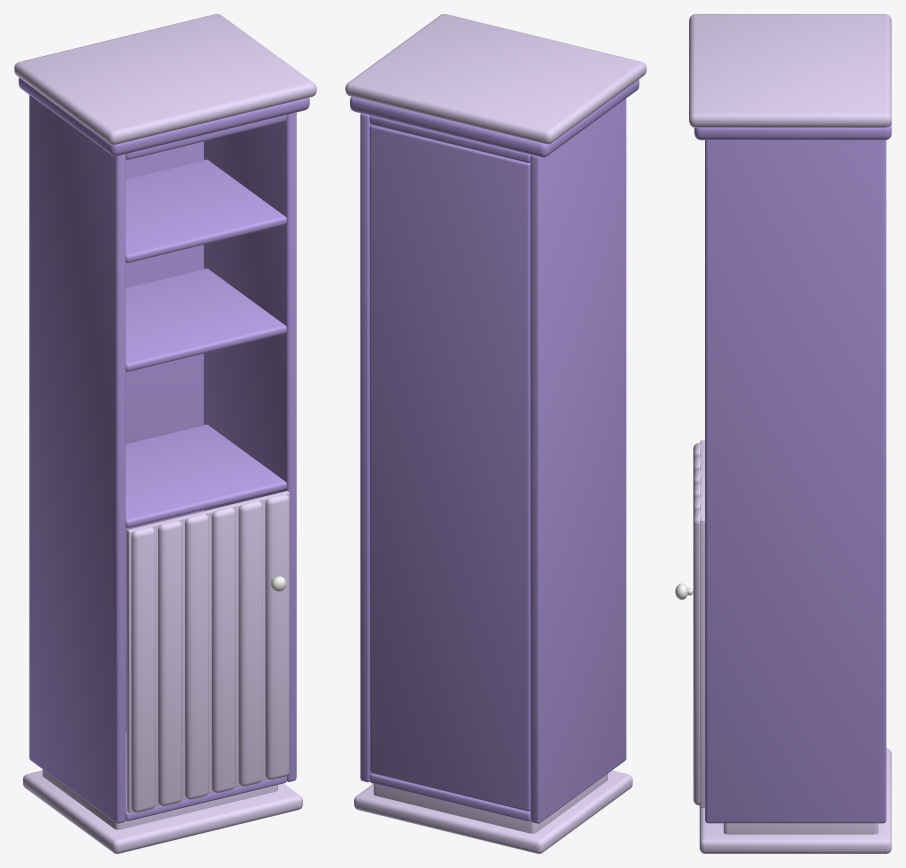
The model's file is armario_coluna_nicho_lilas.glb.
The picture shows the model from 3 angles, left to right: view 1: azimuth 30°, elevation 25°; view 2: azimuth 150°, elevation 25°; view 3: azimuth 270°, elevation 25°; orthographic projection. The views are drawn at different scales.
Parts seen in each view (by area): view 1: armario_coluna_nicho_lilas, porta_1; view 2: armario_coluna_nicho_lilas; view 3: armario_coluna_nicho_lilas, porta_1.
Part boxes in pixels (box(x1,y1,x2,y2)): armario_coluna_nicho_lilas: box(14, 14, 316, 853); porta_1: box(126, 491, 289, 812); armario_coluna_nicho_lilas: box(345, 14, 646, 853); armario_coluna_nicho_lilas: box(689, 14, 891, 853); porta_1: box(675, 440, 704, 807).
Size of the model in its own units: 0.46 by 1.54 by 0.4058.
1 material, 1 textured.
